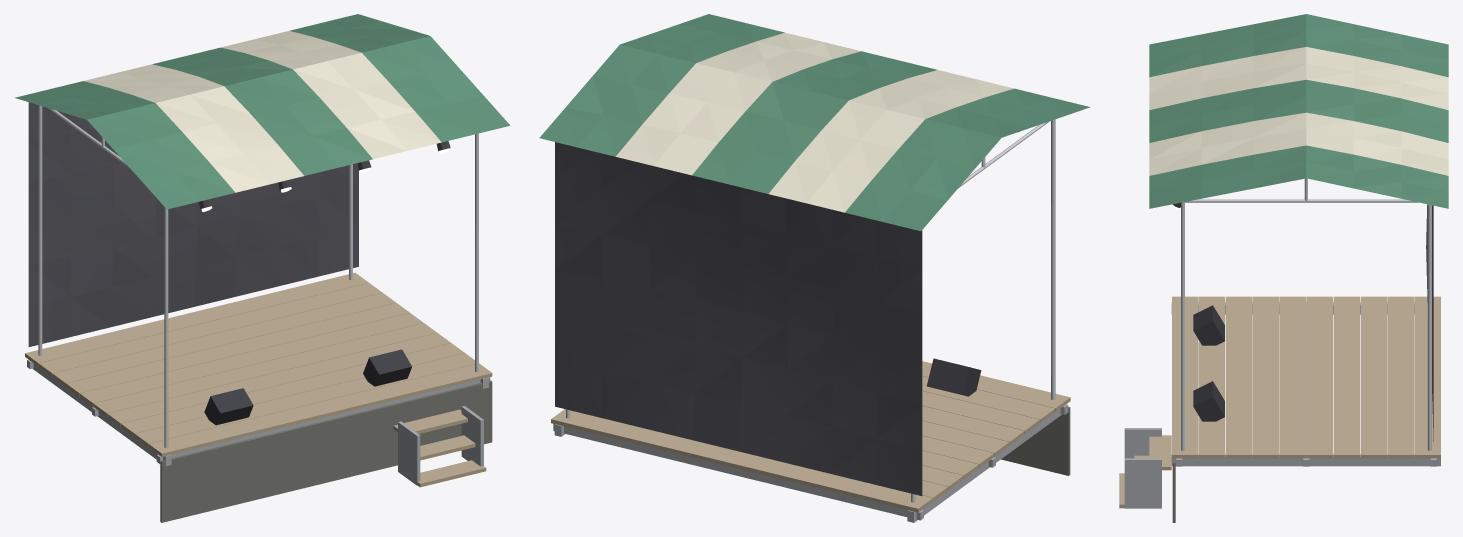
The model's file is festival_stage_a.glb.
3 views of the same model, side by side, from view 1: azimuth 30°, elevation 25°; view 2: azimuth 150°, elevation 25°; view 3: azimuth 270°, elevation 25° (orthographic). The views are drawn at different scales.
Visible parts, largest first — view 1: body; view 2: body; view 3: body.
Part boxes in pixels (bbox=[...]): body: bbox=[14, 14, 510, 522]; body: bbox=[539, 14, 1090, 522]; body: bbox=[1119, 14, 1448, 522].
Size of what is drawn, in the model's own units: 5.2 by 5.15 by 4.4.
